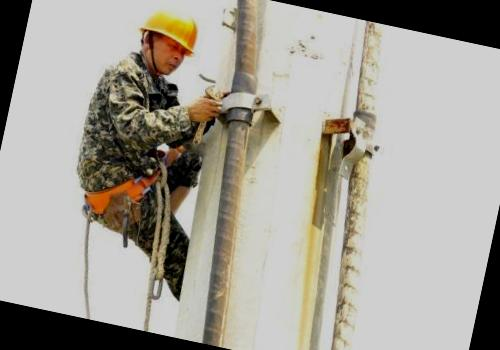helmet: (132, 4, 208, 63)
no_vest: (68, 42, 184, 214)
person: (48, 0, 241, 305)
